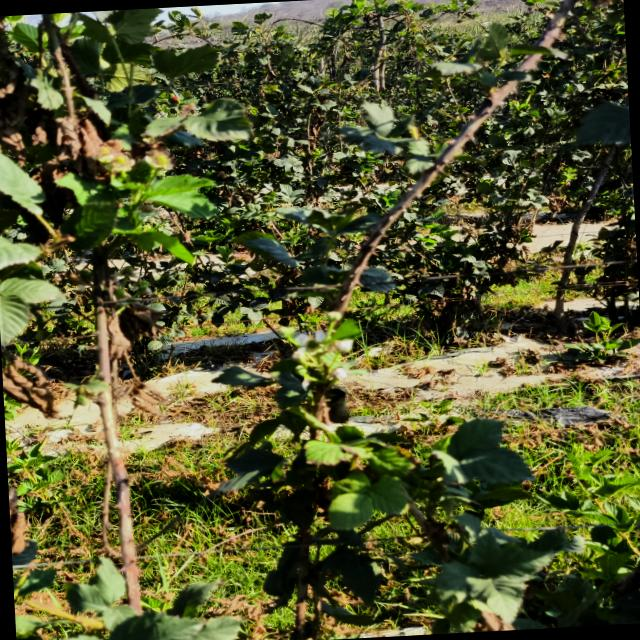boton: (330, 339, 354, 353), (330, 368, 348, 381), (327, 311, 342, 322)
